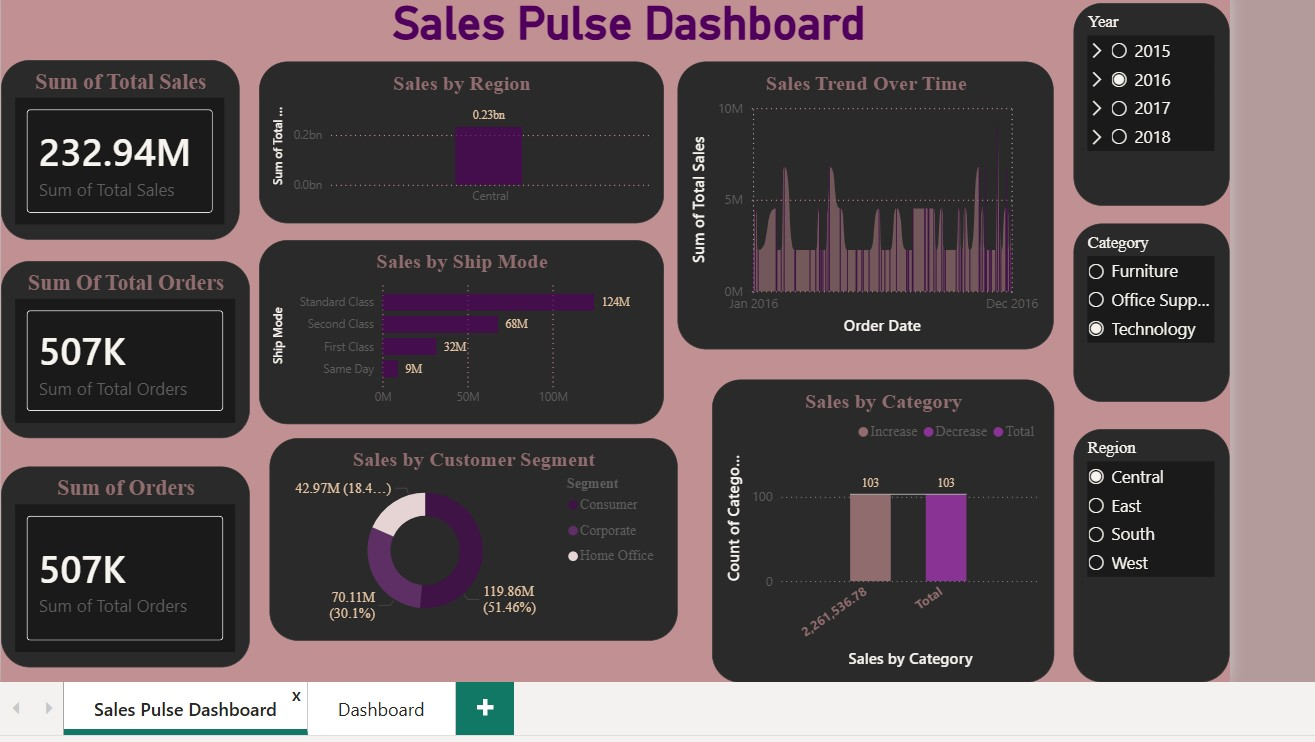

The page's visual inventory and layout, read from the dashboard file:
{"tool":"powerbi","page":{"name":"Sales Pulse Dashboard","canvas":[1280,720],"ordinal":0},"visuals":[{"type":"cardVisual","title":"Sum of Total Sales","fields":{"Data":["Sum(Sales Pulse Data Set.Total Sales)"]},"box":[0,71.9,248.5,187.6],"z":0},{"type":"cardVisual","title":"Sum of Orders","fields":{"Data":["Sum(Sales Pulse Data Set.Total Orders)"]},"box":[0,495.5,259.5,209.4],"z":1000},{"type":"textbox","box":[319.4,0,670.9,71.8],"z":3000},{"type":"ribbonChart","title":"Sales Trend Over Time","fields":{"Category":["Sales Pulse Data Set.Order Date"],"Y":["Sum(Sales Pulse Data Set.Total Sales)"]},"box":[704.9,73.5,392.3,300.1],"z":4000},{"type":"waterfallChart","title":"Sales by Category","fields":{"Category":["Sales Pulse Data Set.Total Sales"],"Y":["CountNonNull(Sales Pulse Data Set.Category)"]},"box":[740.9,404.8,356.4,315.7],"z":5000},{"type":"clusteredColumnChart","title":"Sales by Region","fields":{"Y":["Sum(Sales Pulse Data Set.Total Sales)"],"Category":["Sales Pulse Data Set.Region"]},"box":[268.8,73.5,422,168.8],"z":6000},{"type":"donutChart","title":"Sales by Customer Segment","fields":{"Category":["Sales Pulse Data Set.Segment"],"Y":["Sum(Sales Pulse Data Set.Total Sales)"]},"box":[279.8,465.8,425.1,211],"z":7000},{"type":"barChart","title":"Sales by Ship Mode","fields":{"Y":["Sum(Sales Pulse Data Set.Total Sales)"],"Category":["Sales Pulse Data Set.Ship Mode"]},"box":[268.8,259.5,422,192.2],"z":8000},{"type":"listSlicer","fields":{"Values":["Sales Pulse Data Set.Order Date.Variation.Date Hierarchy.Year","Sales Pulse Data Set.Order Date.Variation.Date Hierarchy.Quarter","Sales Pulse Data Set.Order Date.Variation.Date Hierarchy.Month","Sales Pulse Data Set.Order Date.Variation.Date Hierarchy.Day"]},"box":[1117.5,12.5,162.6,211],"z":10000},{"type":"listSlicer","fields":{"Values":["Sales Pulse Data Set.Region"]},"box":[1117.5,456.4,162.6,264.1],"z":11000},{"type":"listSlicer","fields":{"Values":["Sales Pulse Data Set.Category"]},"box":[1117.5,242.3,162.6,186],"z":12000},{"type":"cardVisual","title":"Sum Of Total Orders","fields":{"Data":["Sum(Sales Pulse Data Set.Total Orders)"]},"box":[0,281.3,259.5,184.4],"z":13000}]}

Visuals, with their boxes on the page's 1280x720 design canvas (x1, y1, x2, y2). These are canvas units, not pixel positions in the 1315x742 screenshot, which may show the page scaled, cropped or inside an application window:
"Sum of Total Sales" cardVisual: bbox=[0, 72, 248, 260]
"Sum of Orders" cardVisual: bbox=[0, 496, 260, 705]
textbox: bbox=[319, 0, 990, 72]
"Sales Trend Over Time" ribbonChart: bbox=[705, 74, 1097, 374]
"Sales by Category" waterfallChart: bbox=[741, 405, 1097, 720]
"Sales by Region" clusteredColumnChart: bbox=[269, 74, 691, 242]
"Sales by Customer Segment" donutChart: bbox=[280, 466, 705, 677]
"Sales by Ship Mode" barChart: bbox=[269, 260, 691, 452]
listSlicer - Sales Pulse Data Set.Order Date.Variation.Date Hierarchy.Year x Sales Pulse Data Set.Order Date.Variation.Date Hierarchy.Quarter: bbox=[1118, 12, 1280, 224]
listSlicer - Sales Pulse Data Set.Region: bbox=[1118, 456, 1280, 720]
listSlicer - Sales Pulse Data Set.Category: bbox=[1118, 242, 1280, 428]
"Sum Of Total Orders" cardVisual: bbox=[0, 281, 260, 466]
